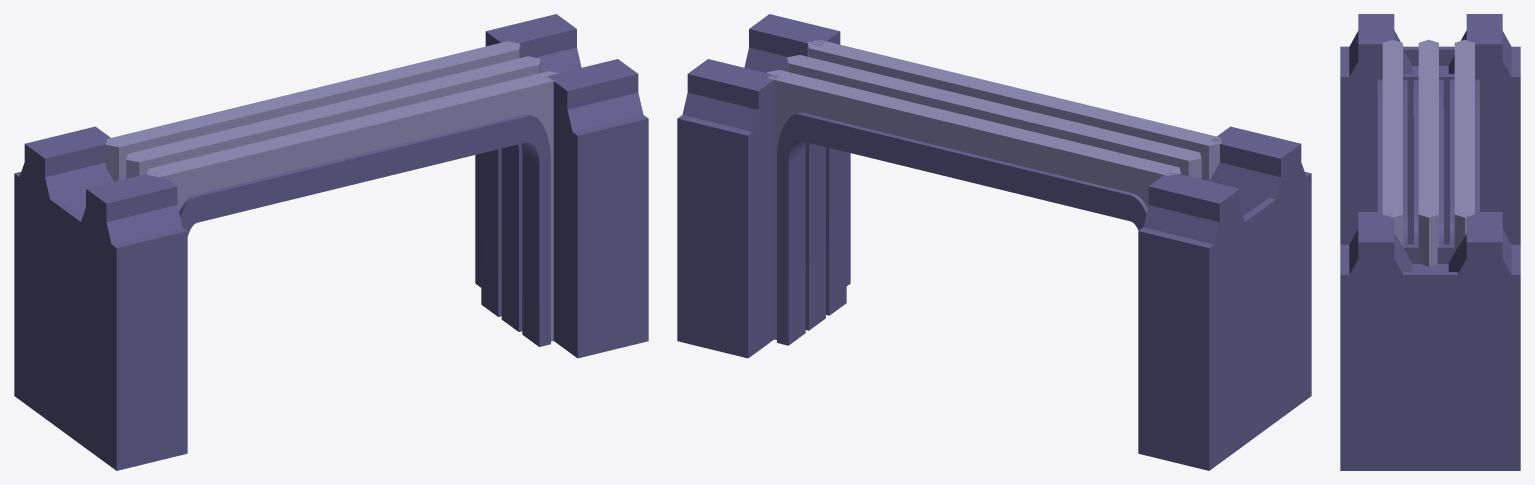
Rendered from gate.glb.
3 views of the same model, side by side, from view 1: azimuth 30°, elevation 25°; view 2: azimuth 150°, elevation 25°; view 3: azimuth 270°, elevation 25° (orthographic). The views are drawn at different scales.
Visible parts, largest first — view 1: mergedBlocks(Clone); view 2: mergedBlocks(Clone); view 3: mergedBlocks(Clone).
Boxes of the visible parts, x1,y1,x2,y2 form: mergedBlocks(Clone): (14, 14, 648, 470); mergedBlocks(Clone): (677, 14, 1311, 470); mergedBlocks(Clone): (1340, 14, 1520, 470).
Size of the model in its own units: 3 by 1.4 by 1.
Materials: 1 (1 with a texture image).
